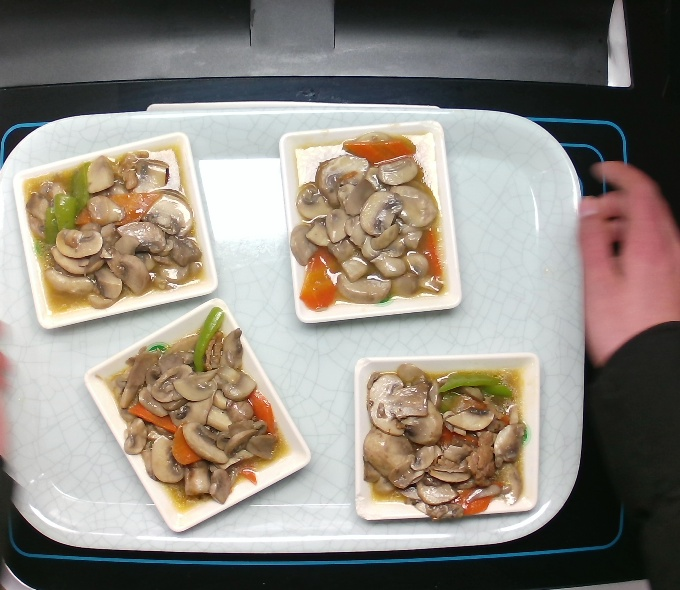wcq-HouTouGuChaoRou: (92, 315, 292, 510), (19, 140, 210, 323), (289, 126, 453, 318), (355, 363, 538, 531)
